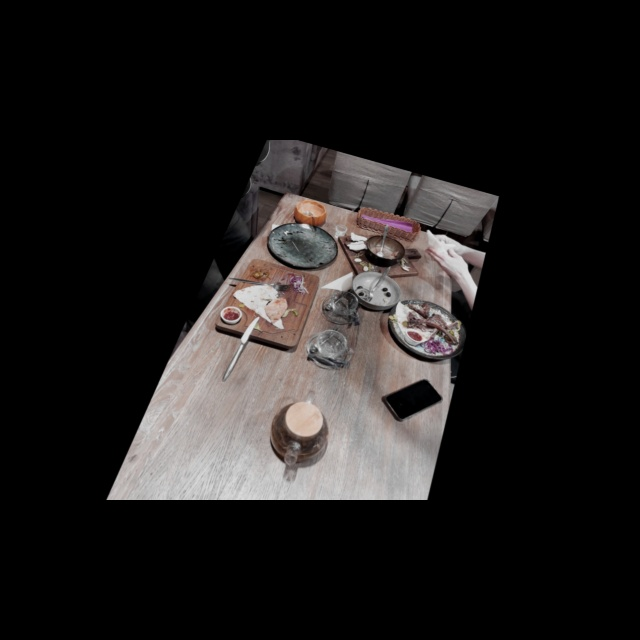закуска(пустая тарелка): (210, 253, 323, 353)
мясо(пустая тарелка): (379, 292, 477, 369)
салат цезарь: (346, 267, 406, 316)
салат(пустая тарелка): (258, 215, 344, 277)
сырный суп(пустая тарелка): (289, 196, 331, 230)
